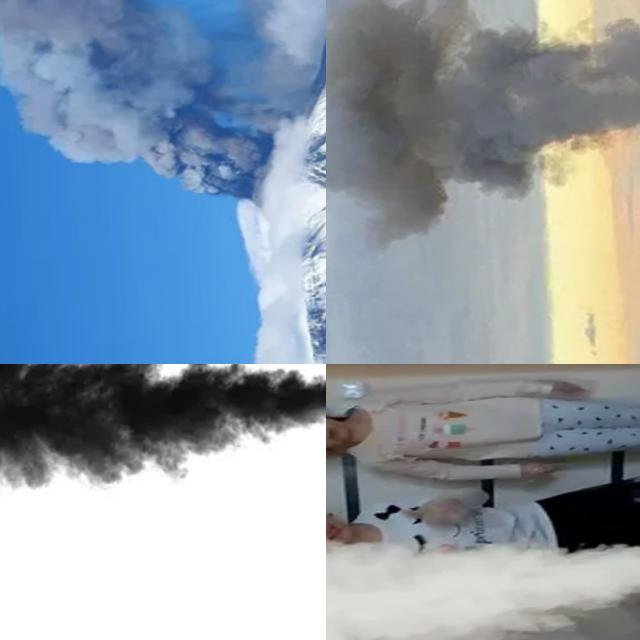smoke: (326, 0, 640, 254), (0, 0, 326, 210), (0, 364, 326, 537), (326, 514, 640, 640)
